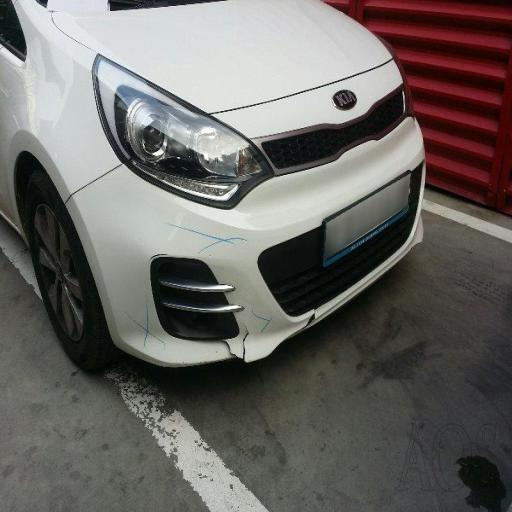broken: (115, 90, 328, 373)
